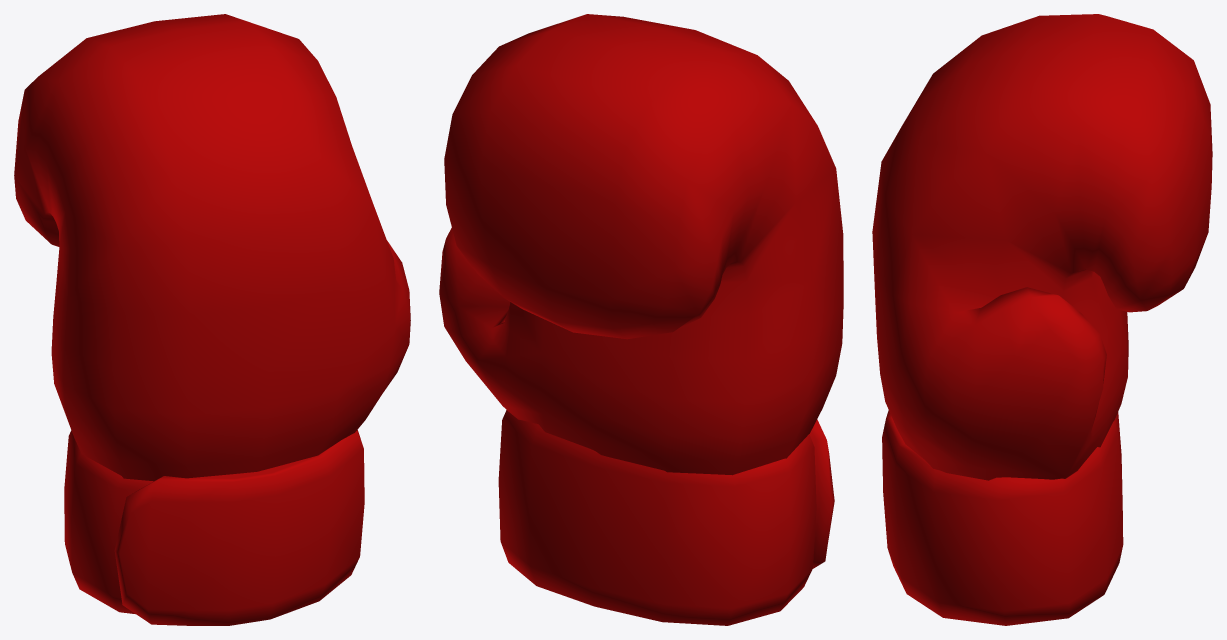
File: uploads_files_876219_BoxingGlove.FBX
The picture shows the model from 3 angles, left to right: view 1: azimuth 30°, elevation 25°; view 2: azimuth 150°, elevation 25°; view 3: azimuth 270°, elevation 25°; orthographic projection. The views are drawn at different scales.
Parts seen in each view (by area): view 1: Box016; view 2: Box016; view 3: Box016.
Part boxes in pixels (x1,y1,x2,y2): Box016: (14, 14, 410, 625); Box016: (439, 14, 843, 625); Box016: (872, 14, 1212, 625).
Size of the model in its own units: 3.45 by 5.32 by 3.13.
